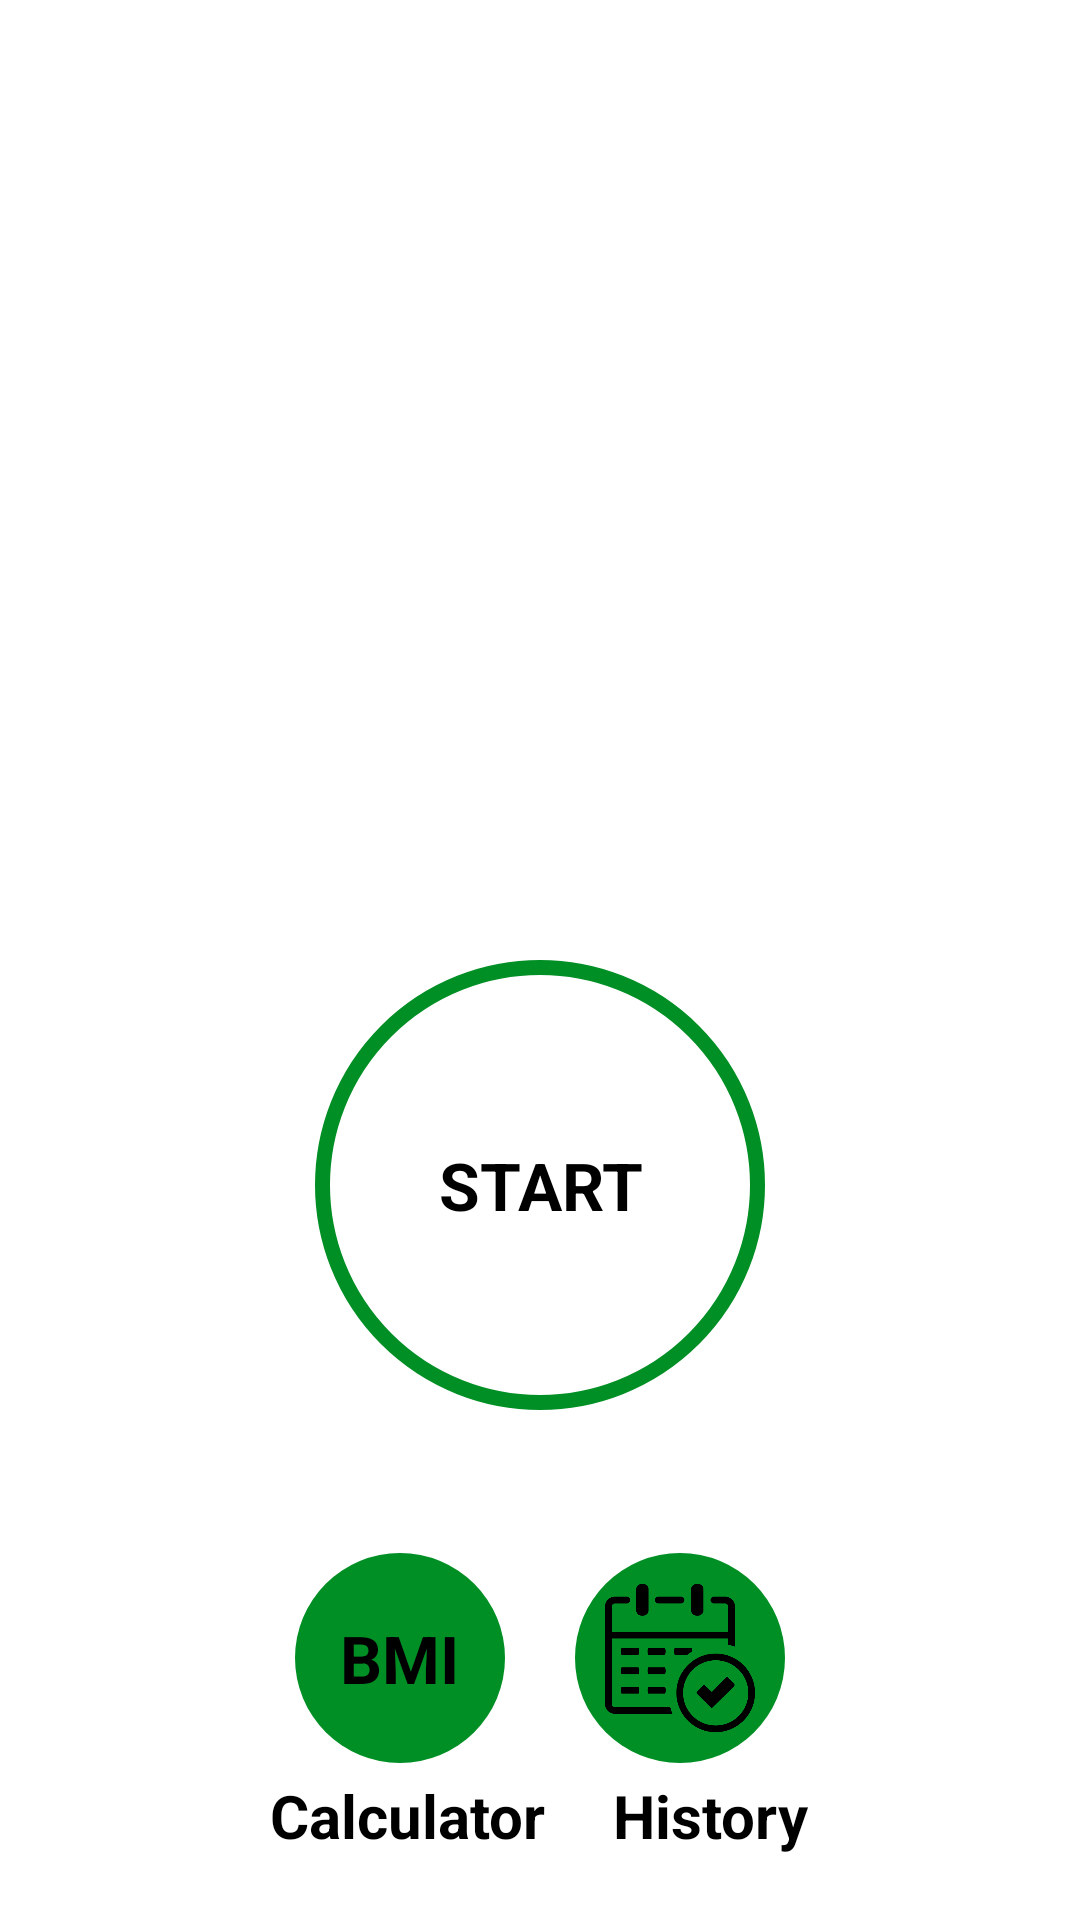

Point at icon controls on the screen. Image size 1080w x 1920h, points as point (x, y).
calender: point (680, 1658)
